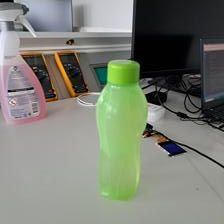bottle: (94, 56, 148, 201)
